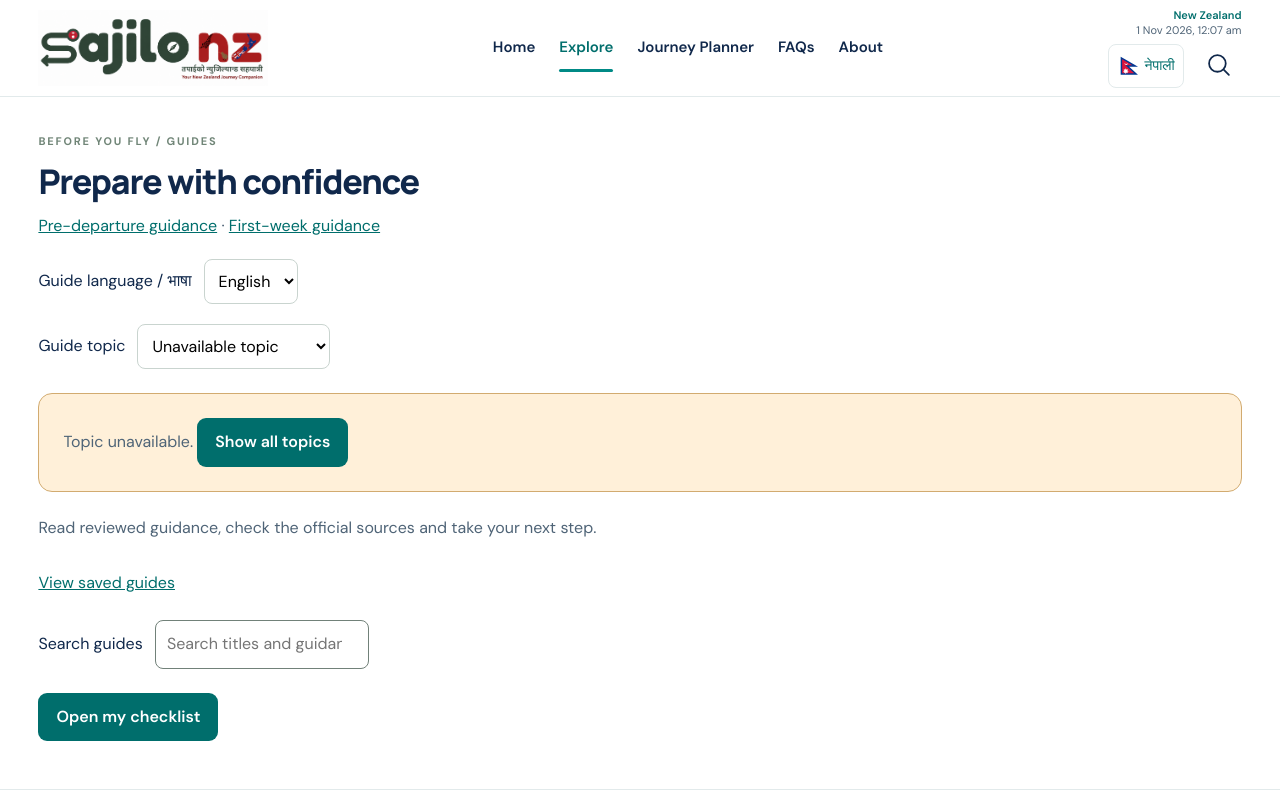
Test: does not silently treat unknown topics as all guides
Expected: the message shows "Topic unavailable", x1=63 y1=431 x2=197 y2=452
Expected: the link "Prepare documents" is not shown
Click the button "Show all topics" at (273, 442), box x1=197 y1=418 x2=348 y2=467
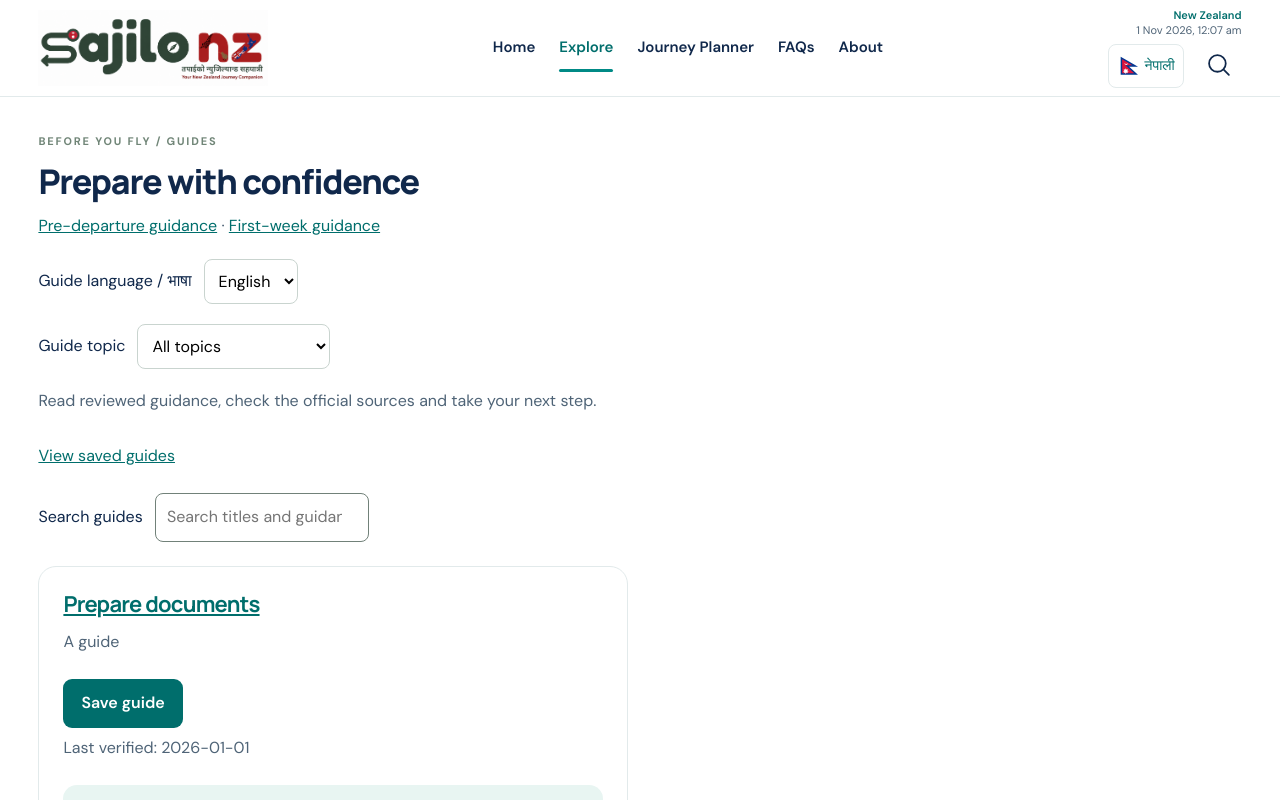
Expected: the link "Prepare documents" is shown, x1=63 y1=589 x2=260 y2=619
